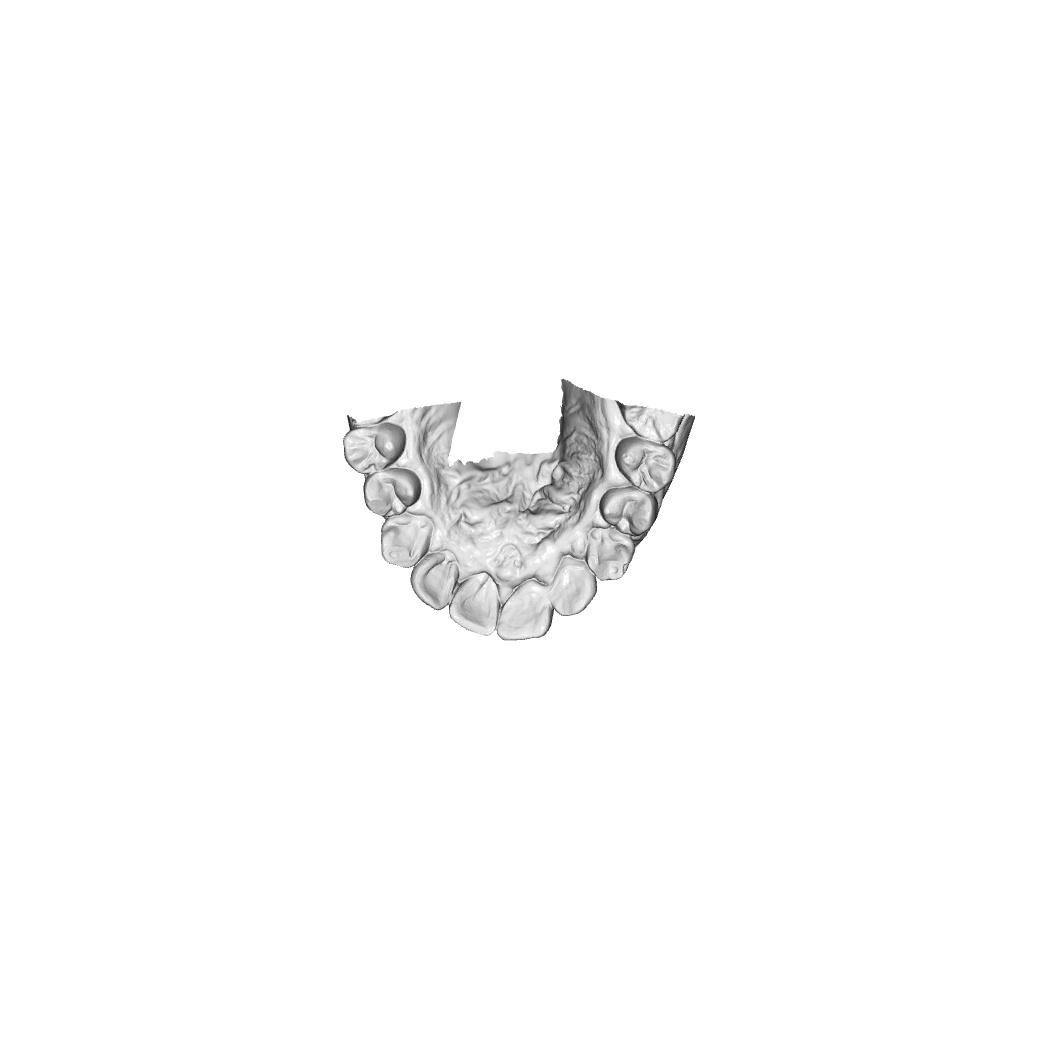canine: (585, 524, 637, 582), (379, 513, 433, 568)
incisor: (496, 576, 554, 642), (448, 571, 500, 638), (549, 553, 599, 617), (409, 550, 460, 612)
premolar: (614, 436, 677, 495), (342, 422, 407, 475), (597, 485, 660, 536), (362, 467, 422, 518)
